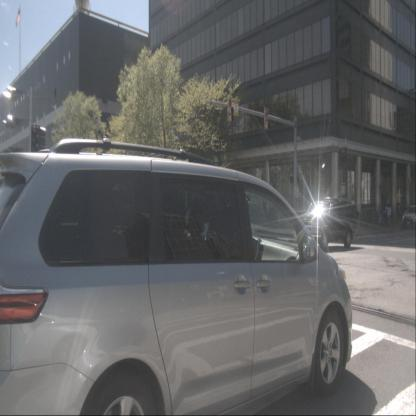human-pedestrian-adult: (384, 203, 392, 227)
vehicle-car: (0, 135, 354, 415), (297, 196, 357, 252), (402, 204, 416, 230)
